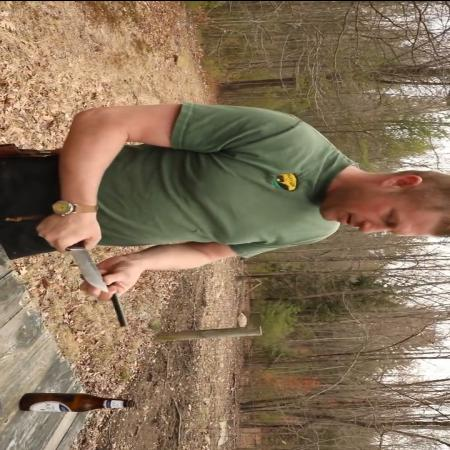long weapon: (35, 218, 115, 298)
